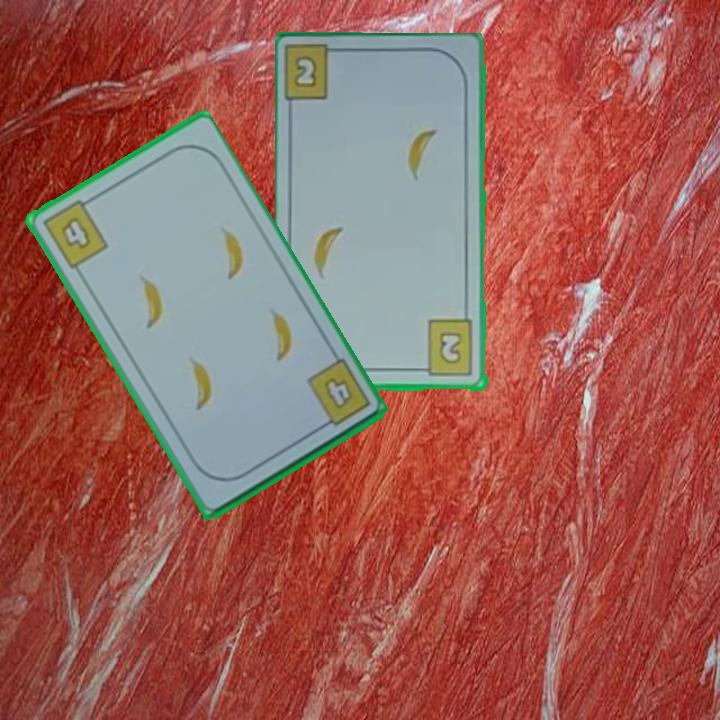2b: (415, 318, 476, 379), (291, 55, 320, 91)
4b: (38, 193, 111, 273), (302, 355, 373, 434)
